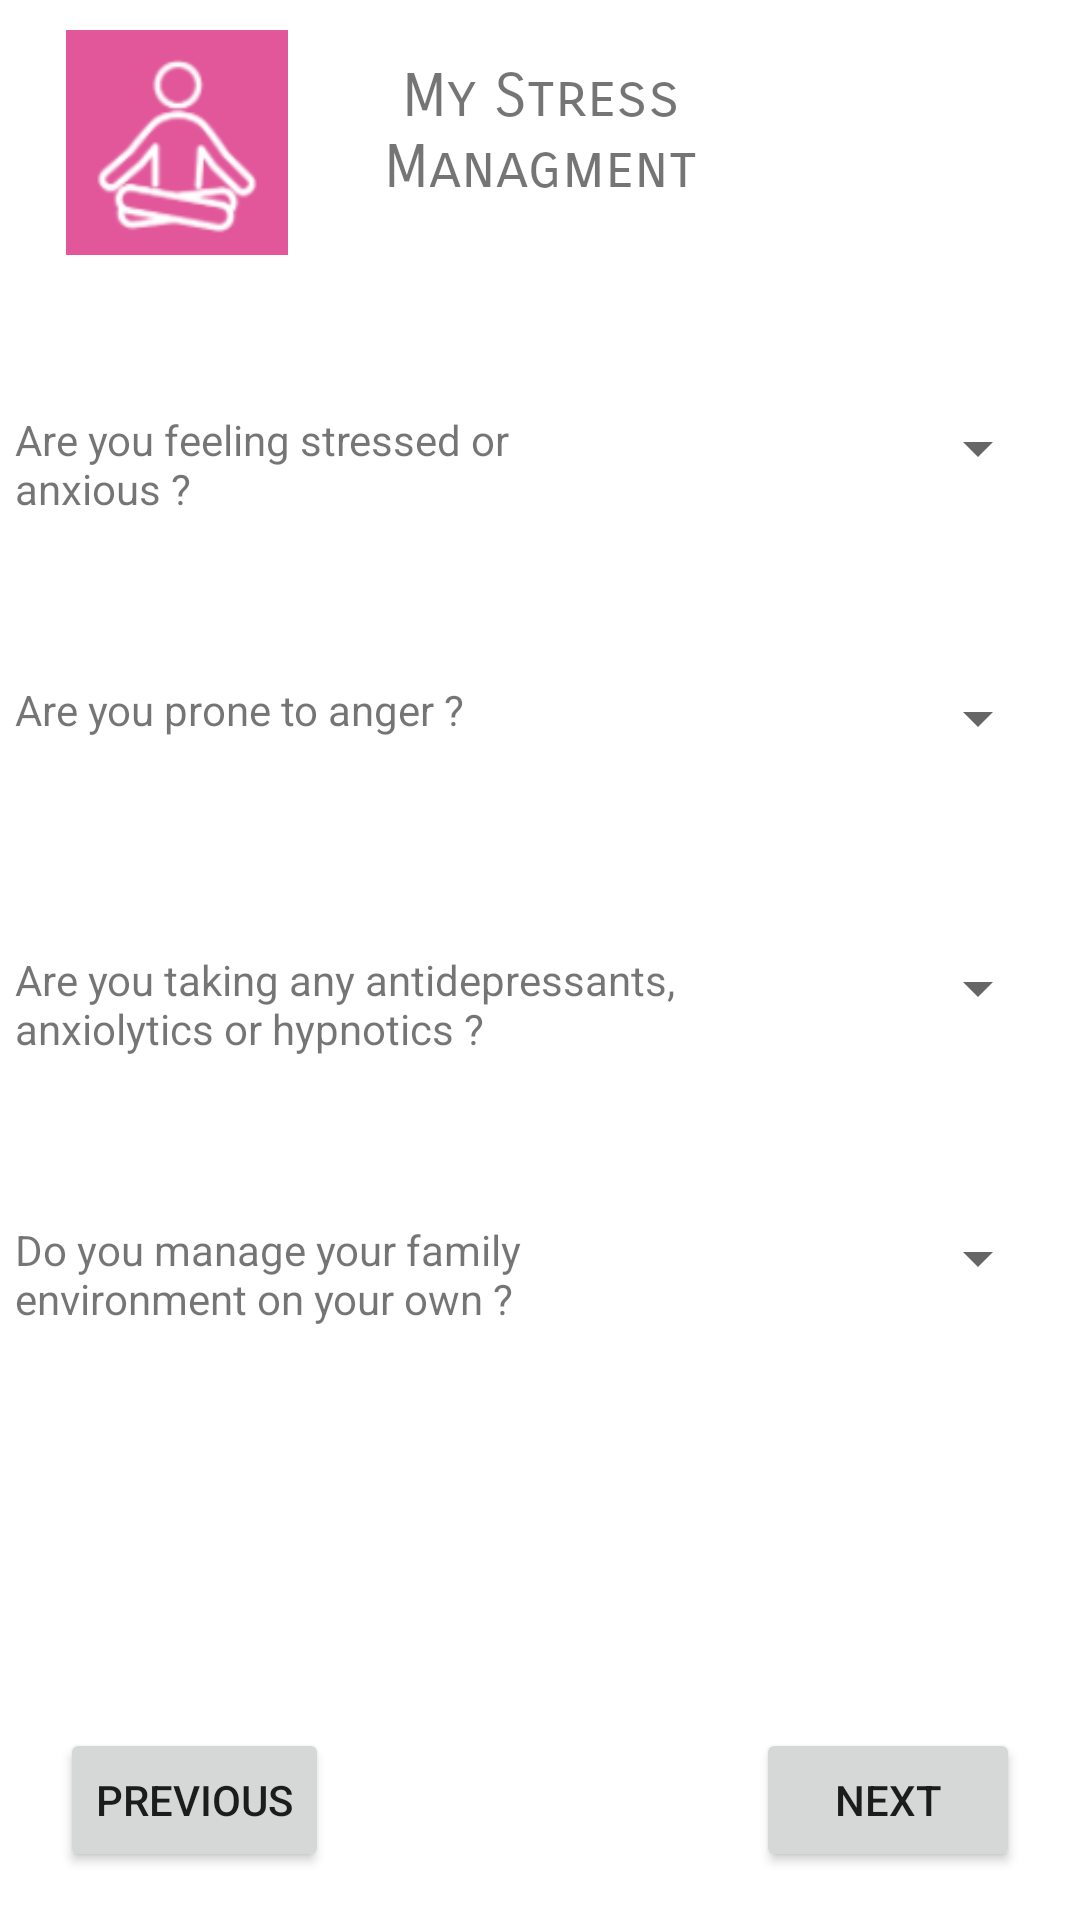

Screen size 1080w x 1920h. Icon name, then its center in pixels as point (x, y):
magestiondustress: point (177, 142)
